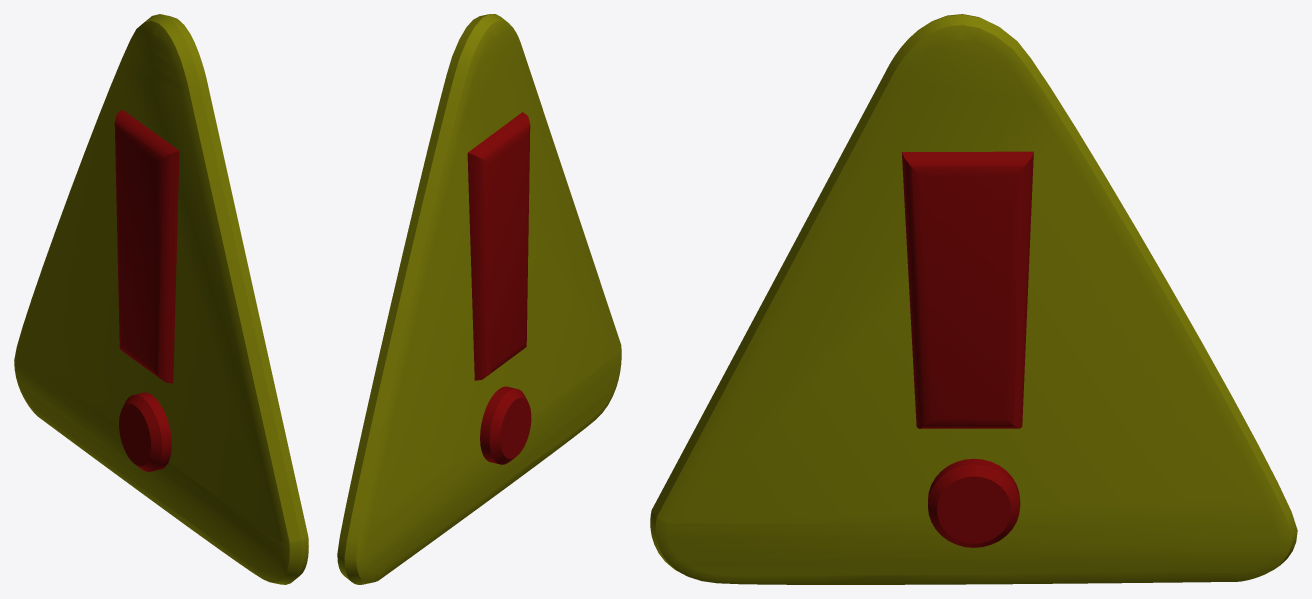
Rendered from Marker.fbx.
The picture shows the model from 3 angles, left to right: view 1: azimuth 30°, elevation 25°; view 2: azimuth 150°, elevation 25°; view 3: azimuth 270°, elevation 25°; orthographic projection. The views are drawn at different scales.
Parts seen in each view (by area): view 1: Mesh; view 2: Mesh; view 3: Mesh.
Part boxes in pixels (x1=…): Mesh: x1=14, y1=14, x2=308, y2=584; Mesh: x1=337, y1=14, x2=621, y2=584; Mesh: x1=650, y1=14, x2=1297, y2=584.
Bounding box in the file's own units: 9.66 × 70.11 × 72.11.
